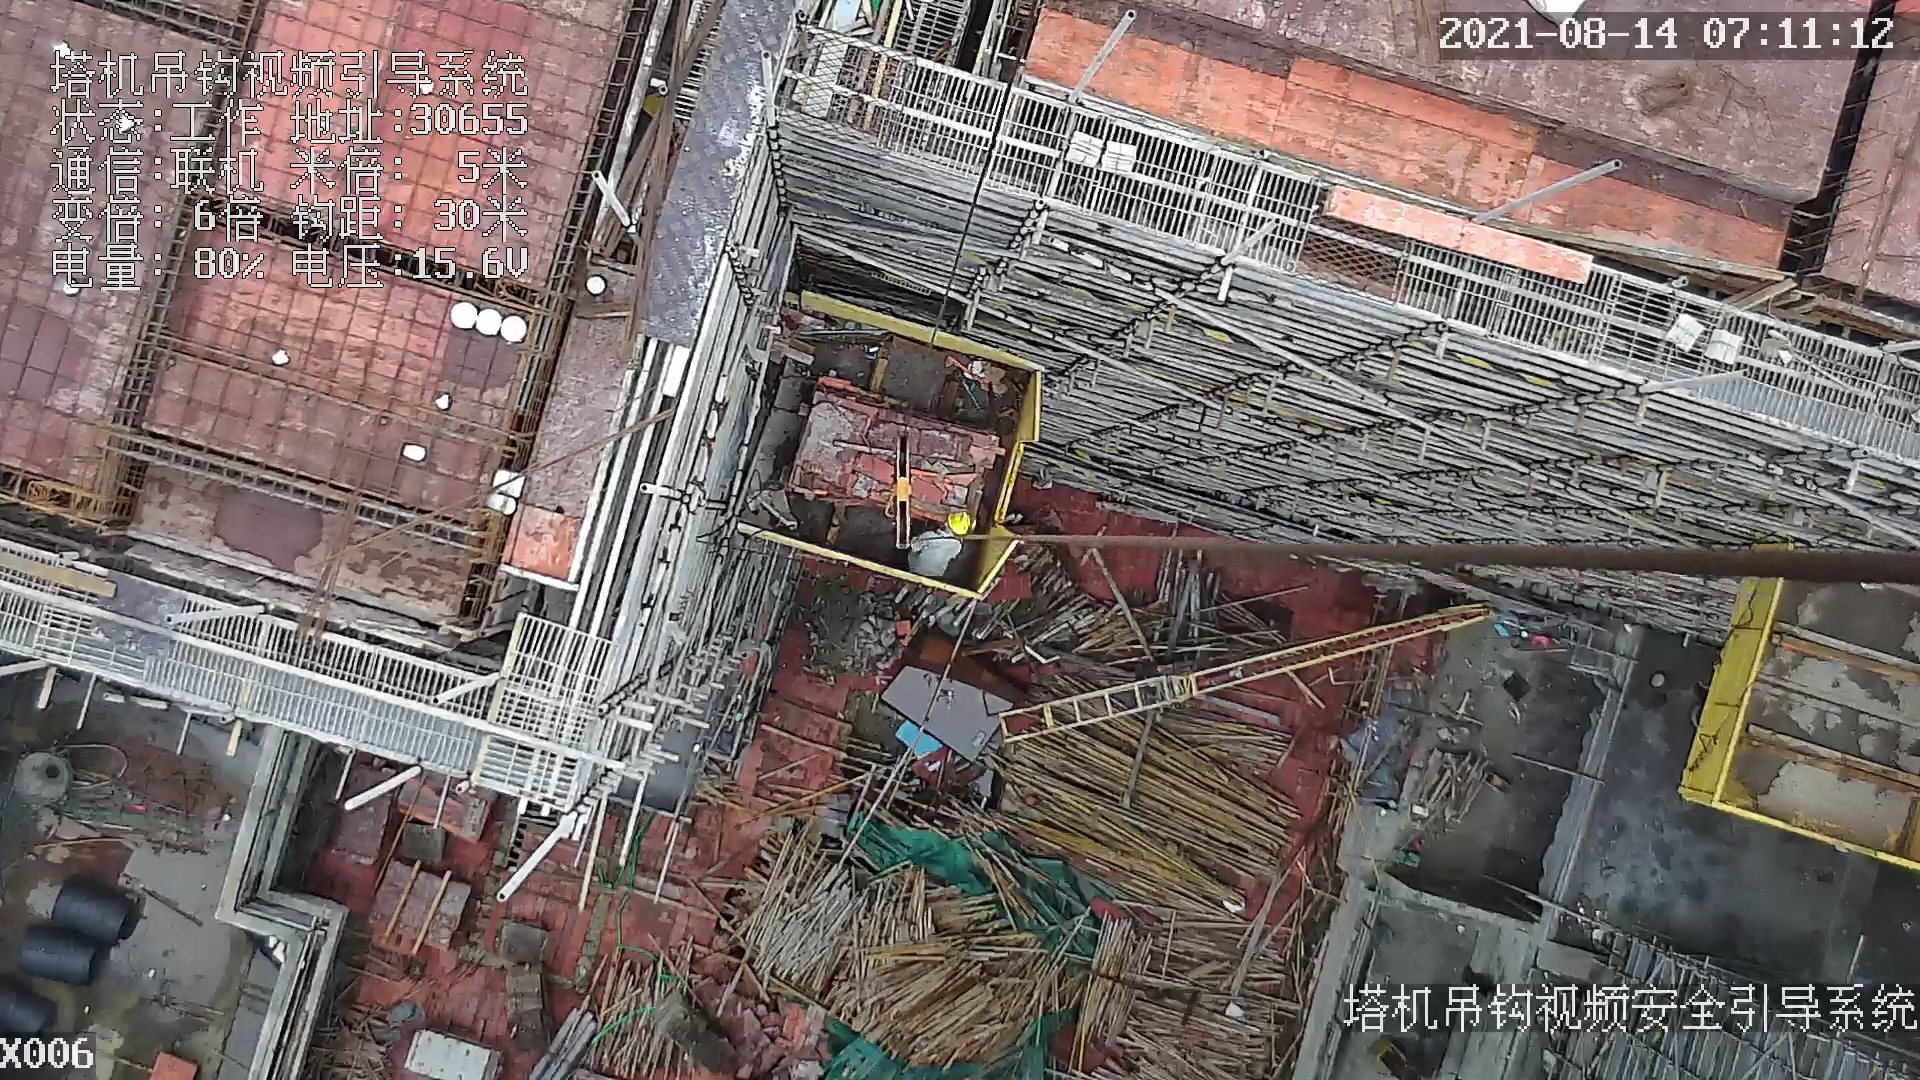helmet: (945, 510, 972, 536)
hook: (882, 430, 918, 551)
person: (905, 515, 979, 583)
